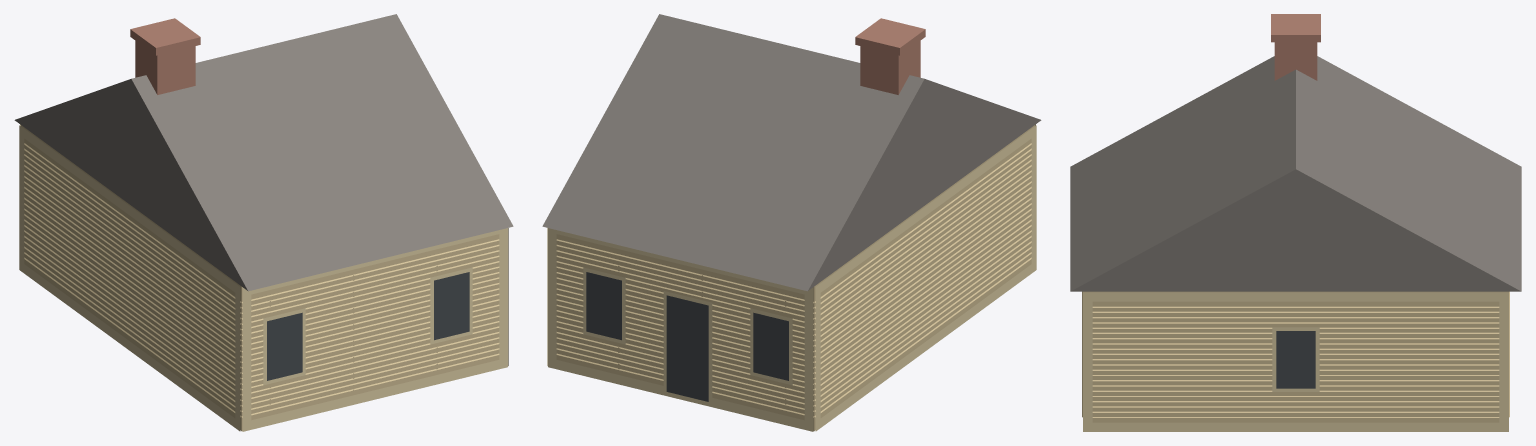
Rendered from recon_1835_blk_south_water_franklin_d4_02__inferred_1835.glb.
3 renders of one model, left to right at view 1: azimuth 30°, elevation 25°; view 2: azimuth 150°, elevation 25°; view 3: azimuth 270°, elevation 25°, orthographic. The views are drawn at different scales.
Parts seen in each view (by area): view 1: recon_1835_blk_south_water_franklin_d4_02__inferred_1835; view 2: recon_1835_blk_south_water_franklin_d4_02__inferred_1835; view 3: recon_1835_blk_south_water_franklin_d4_02__inferred_1835.
Part boxes in pixels (bbox=[...]): recon_1835_blk_south_water_franklin_d4_02__inferred_1835: bbox=[14, 14, 513, 431]; recon_1835_blk_south_water_franklin_d4_02__inferred_1835: bbox=[542, 14, 1041, 431]; recon_1835_blk_south_water_franklin_d4_02__inferred_1835: bbox=[1070, 14, 1521, 431].
Bounding box in the file's own units: 5.89 × 6.47 × 8.88.
